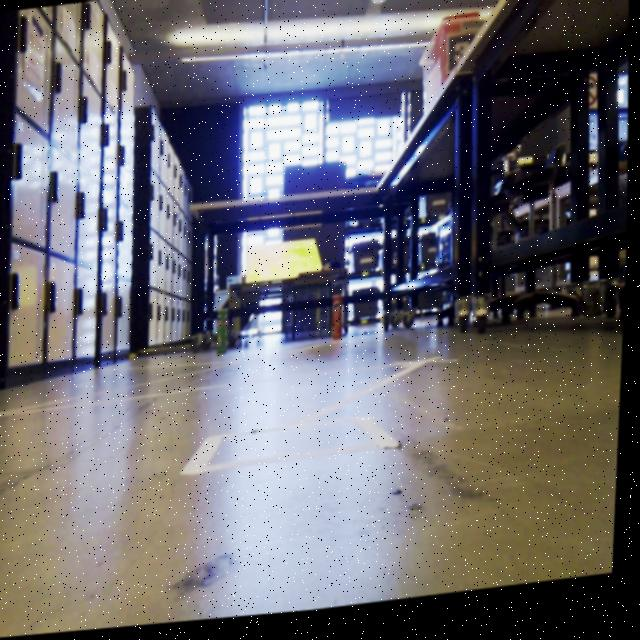greenpringles: (212, 302, 244, 365)
redpringles: (322, 282, 359, 360)
